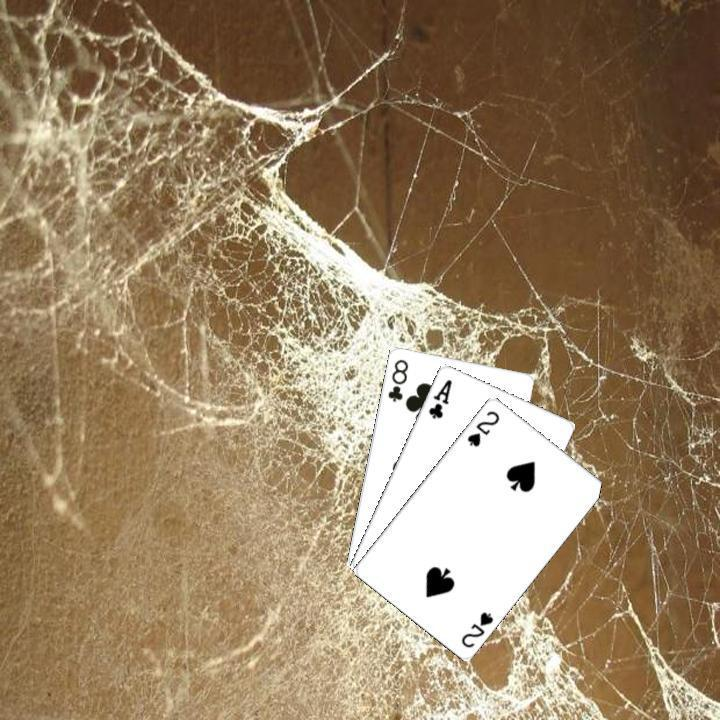2: (463, 406, 501, 449), (457, 607, 495, 650)
8: (383, 354, 410, 403)
A: (424, 375, 454, 420)
